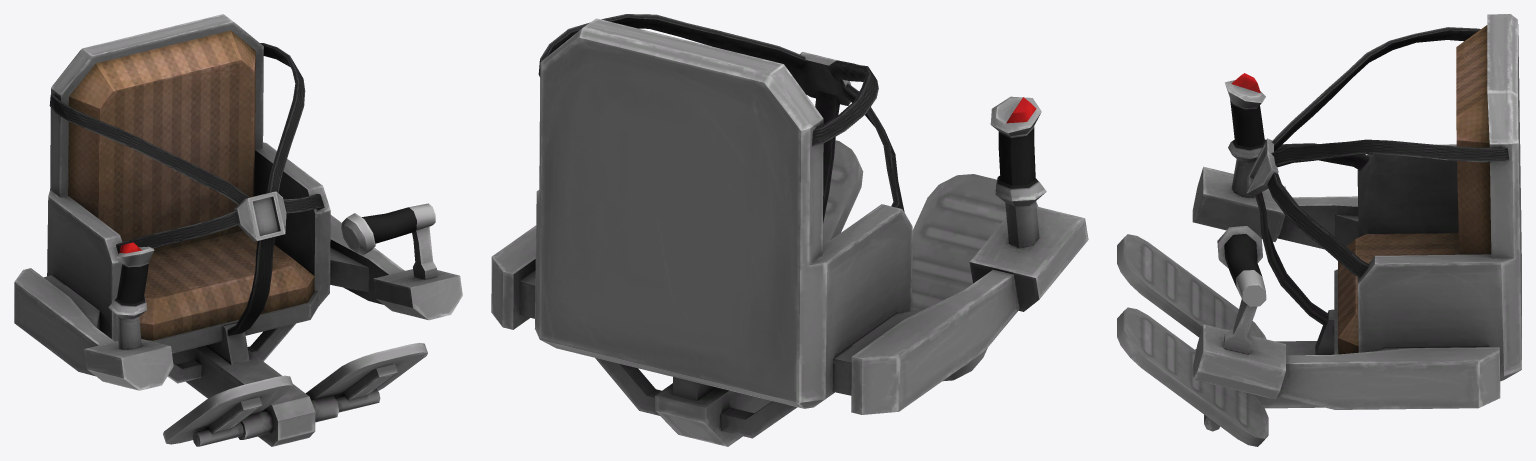
Rendered from Tantares_Prop_Seat_Pilot.obj.
3 views of the same model, side by side, from view 1: azimuth 30°, elevation 25°; view 2: azimuth 150°, elevation 25°; view 3: azimuth 270°, elevation 25° (orthographic). The views are drawn at different scales.
Parts seen in each view (by area): view 1: Tantares_Prop_Seat_Pilot; view 2: Tantares_Prop_Seat_Pilot; view 3: Tantares_Prop_Seat_Pilot.
Boxes of the visible parts, x1=… form: Tantares_Prop_Seat_Pilot: x1=14, y1=14, x2=462, y2=446; Tantares_Prop_Seat_Pilot: x1=491, y1=14, x2=1088, y2=446; Tantares_Prop_Seat_Pilot: x1=1117, y1=14, x2=1521, y2=446.
Bounding box in the file's own units: 0.422 × 0.3696 × 0.3914.
Materials: 1 (1 with a texture image).
